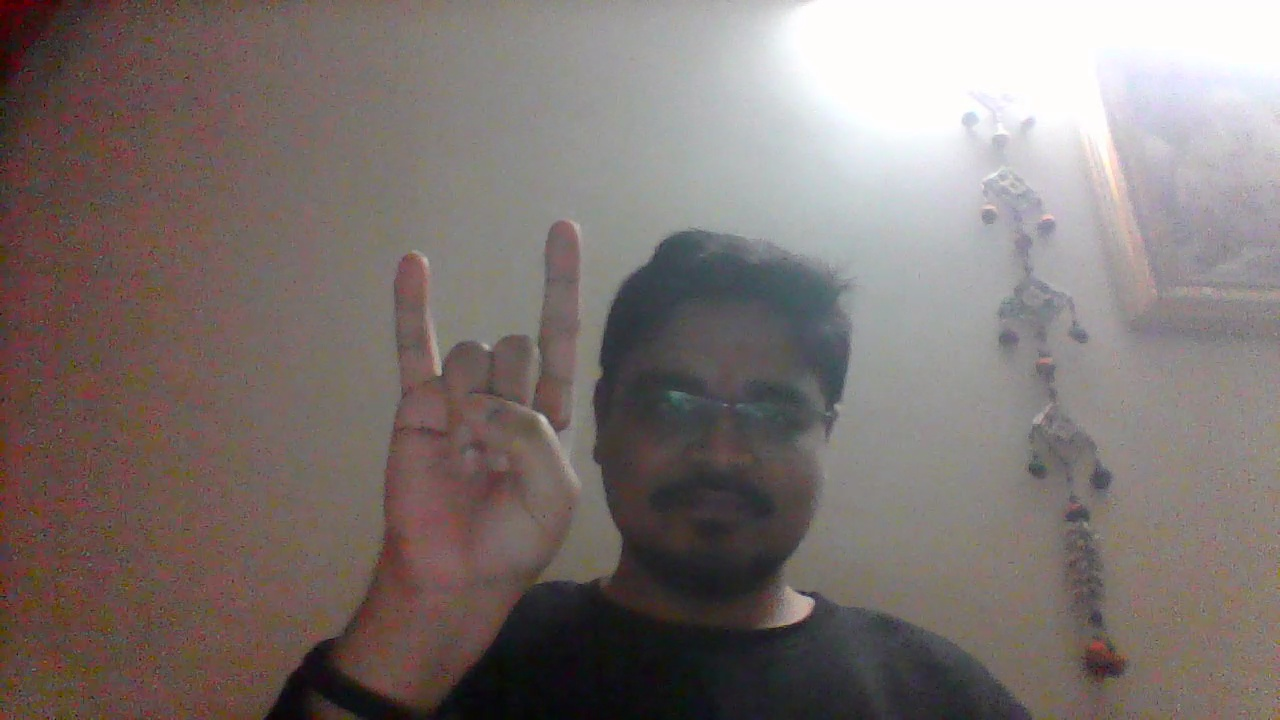ILoveYou: (375, 214, 585, 631)
